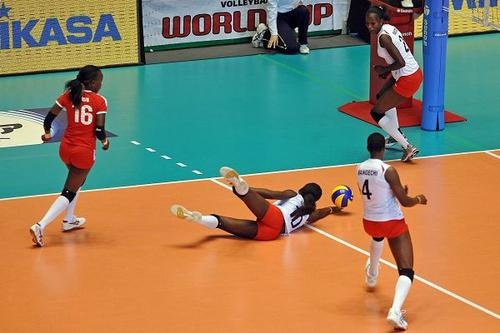falling: (162, 161, 345, 246)
